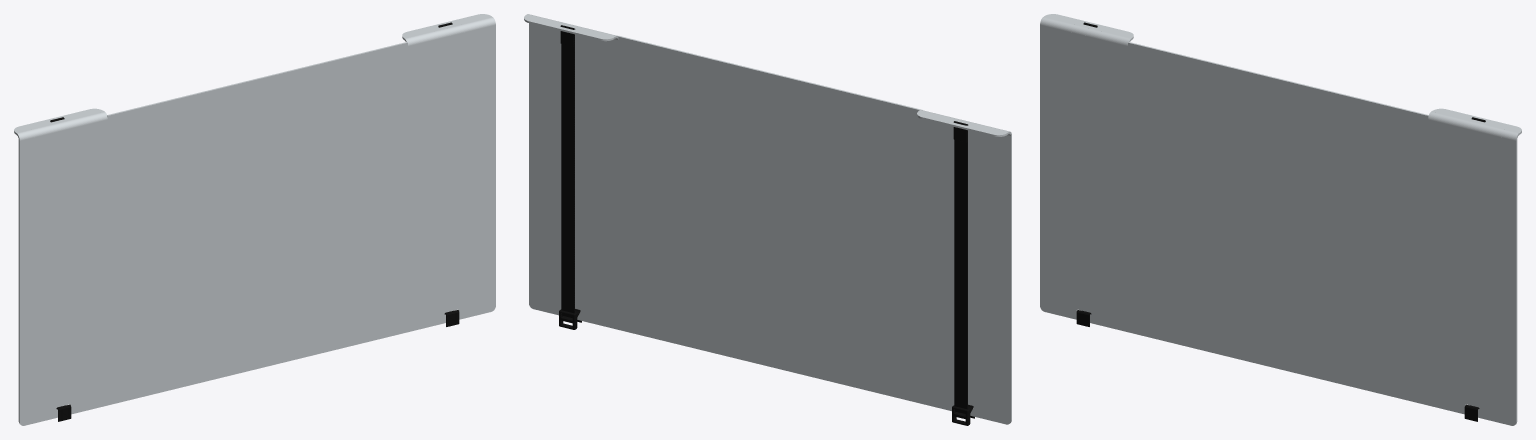
The model's file is tv_protector_SC.glb.
3 views of the same model, side by side, from view 1: azimuth 30°, elevation 25°; view 2: azimuth 150°, elevation 25°; view 3: azimuth 330°, elevation 25° (orthographic).
Parts seen in each view (by area): view 1: OpenSCAD_Model, OpenSCAD_Model_1; view 2: OpenSCAD_Model, OpenSCAD_Model_1; view 3: OpenSCAD_Model, OpenSCAD_Model_1.
Part boxes in pixels (box(x1,y1,x2,y2)): OpenSCAD_Model: box(14, 14, 495, 425); OpenSCAD_Model_1: box(50, 22, 459, 421); OpenSCAD_Model: box(524, 14, 1011, 424); OpenSCAD_Model_1: box(559, 25, 974, 425); OpenSCAD_Model: box(1040, 14, 1521, 425); OpenSCAD_Model_1: box(1076, 22, 1485, 421).
Bounding box in the file's own units: 812 × 485 × 31.
Materials: 2 (1 with a texture image).
